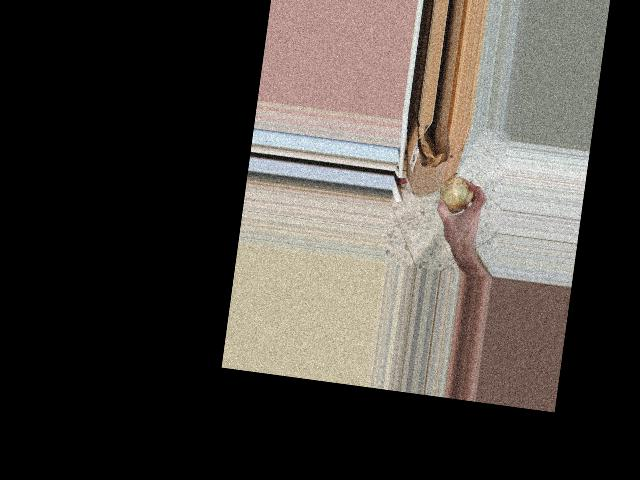onion: (435, 170, 477, 215)
